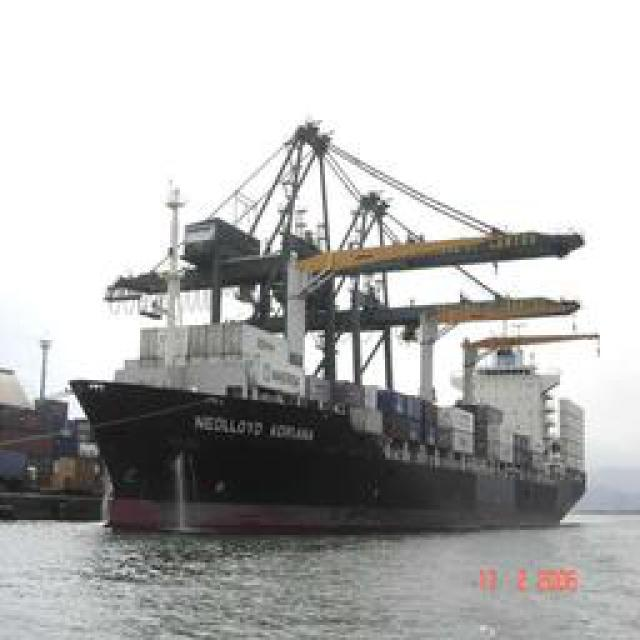Ship: (69, 336, 592, 534)
